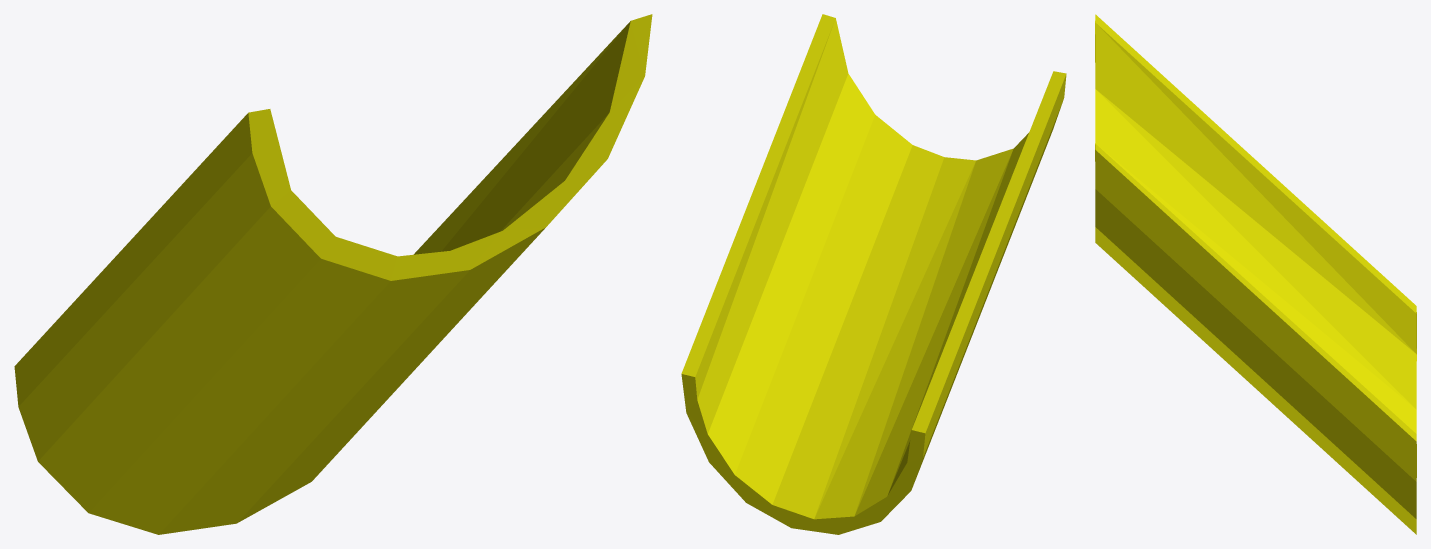
File: pipe incline 2 collision.fbx
The picture shows the model from 3 angles, left to right: view 1: azimuth 30°, elevation 25°; view 2: azimuth 150°, elevation 25°; view 3: azimuth 270°, elevation 25°; orthographic projection. The views are drawn at different scales.
Visible parts, largest first — view 1: pipe incline 2 collision; view 2: pipe incline 2 collision; view 3: pipe incline 2 collision.
Boxes of the visible parts, bbox=[...] form: pipe incline 2 collision: bbox=[14, 14, 652, 534]; pipe incline 2 collision: bbox=[681, 14, 1066, 534]; pipe incline 2 collision: bbox=[1095, 14, 1416, 534].
Size of the model in its own units: 100 by 150 by 100.
